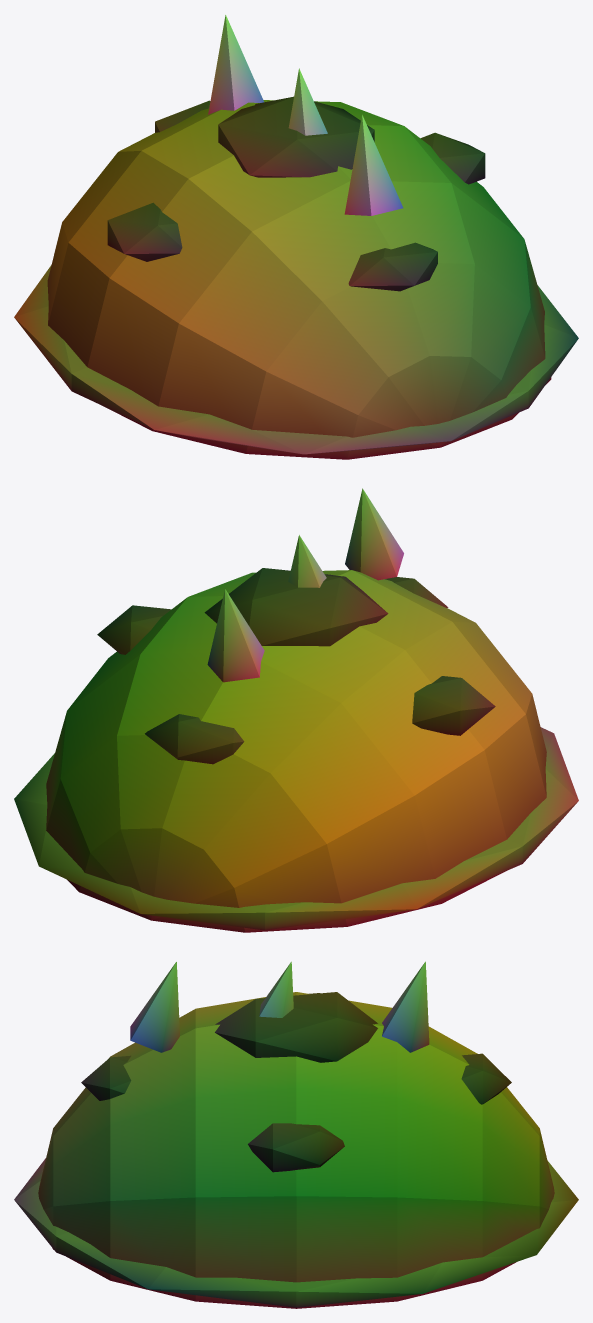
The model's file is Shell.fbx.
3 renders of one model, top to bottom at view 1: azimuth 30°, elevation 25°; view 2: azimuth 150°, elevation 25°; view 3: azimuth 270°, elevation 25°, orthographic. The views are drawn at different scales.
Parts seen in each view (by area): view 1: Shell; view 2: Shell; view 3: Shell.
Part boxes in pixels (x1=…): Shell: x1=14, y1=15, x2=578, y2=459; Shell: x1=14, y1=488, x2=578, y2=932; Shell: x1=14, y1=961, x2=578, y2=1308.
Bounding box in the file's own units: 0.9891 × 0.61 × 1.18.
